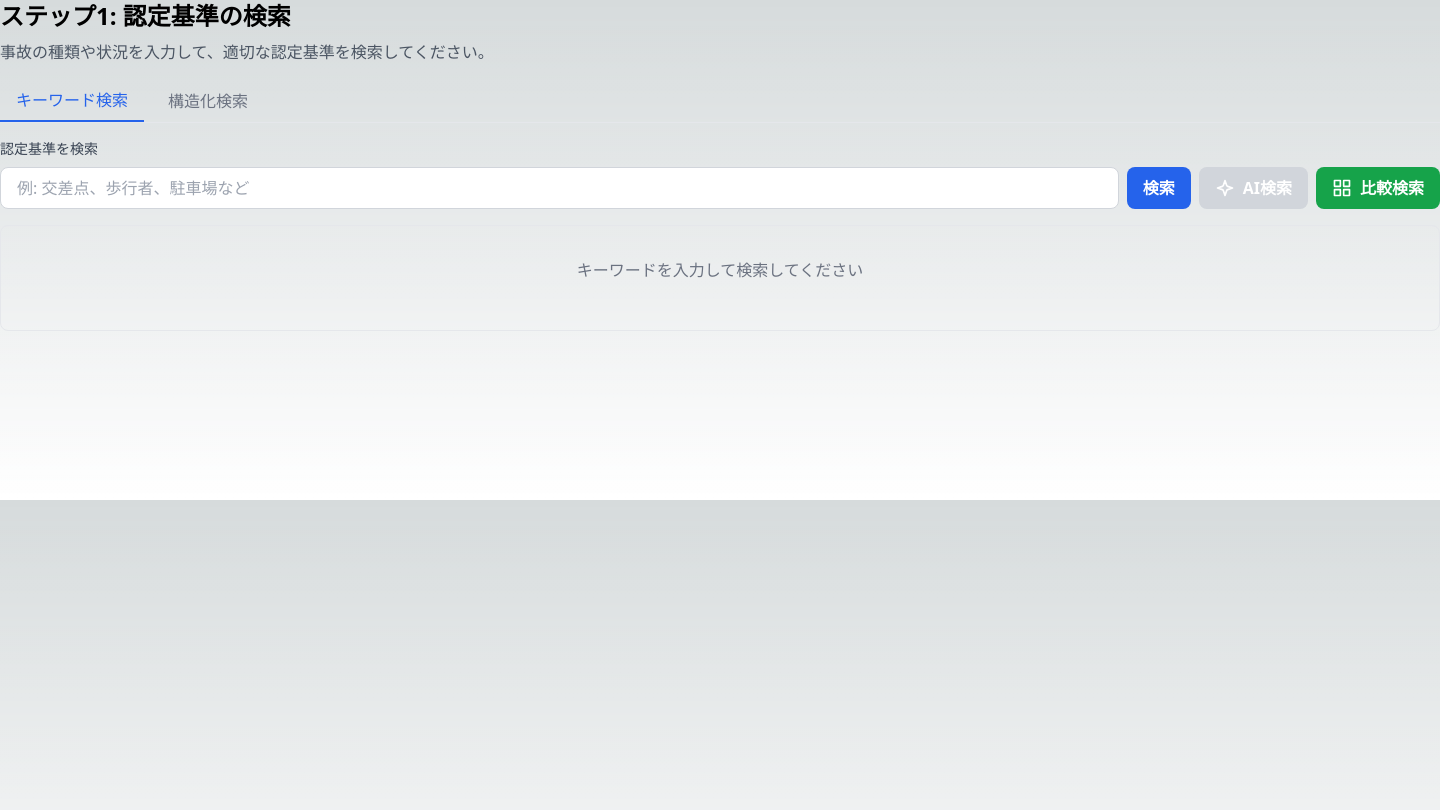
Test: Step1Search › shows no results message when search returns empty
The width and height of the screenshot is (1440, 810).
In the field with placeholder "例: 交差点、歩行者、駐車場など": [559, 188] box [0, 167, 1119, 209], type "存在しないキーワード"
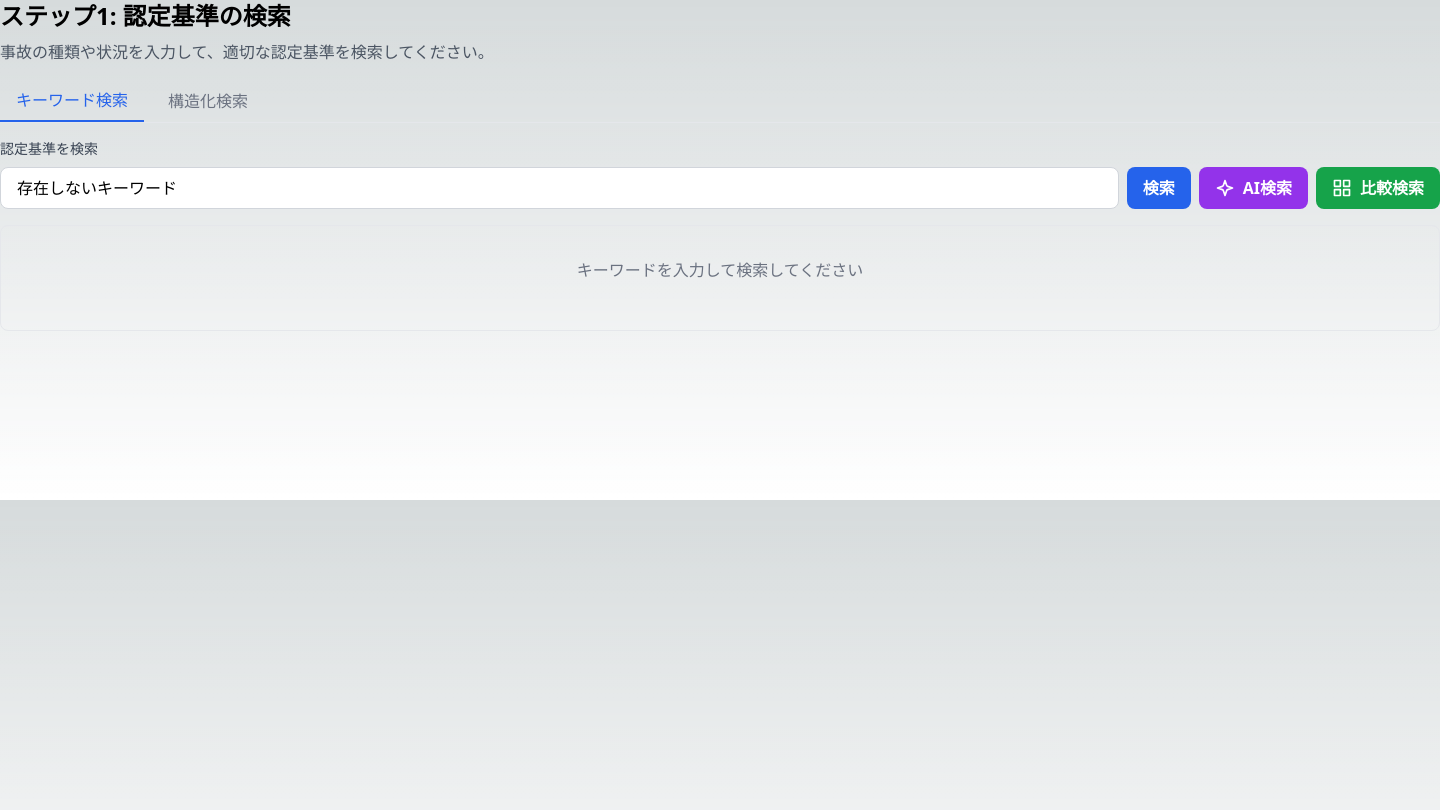
Click the button "検索": [1159, 188] box [1127, 167, 1191, 209]
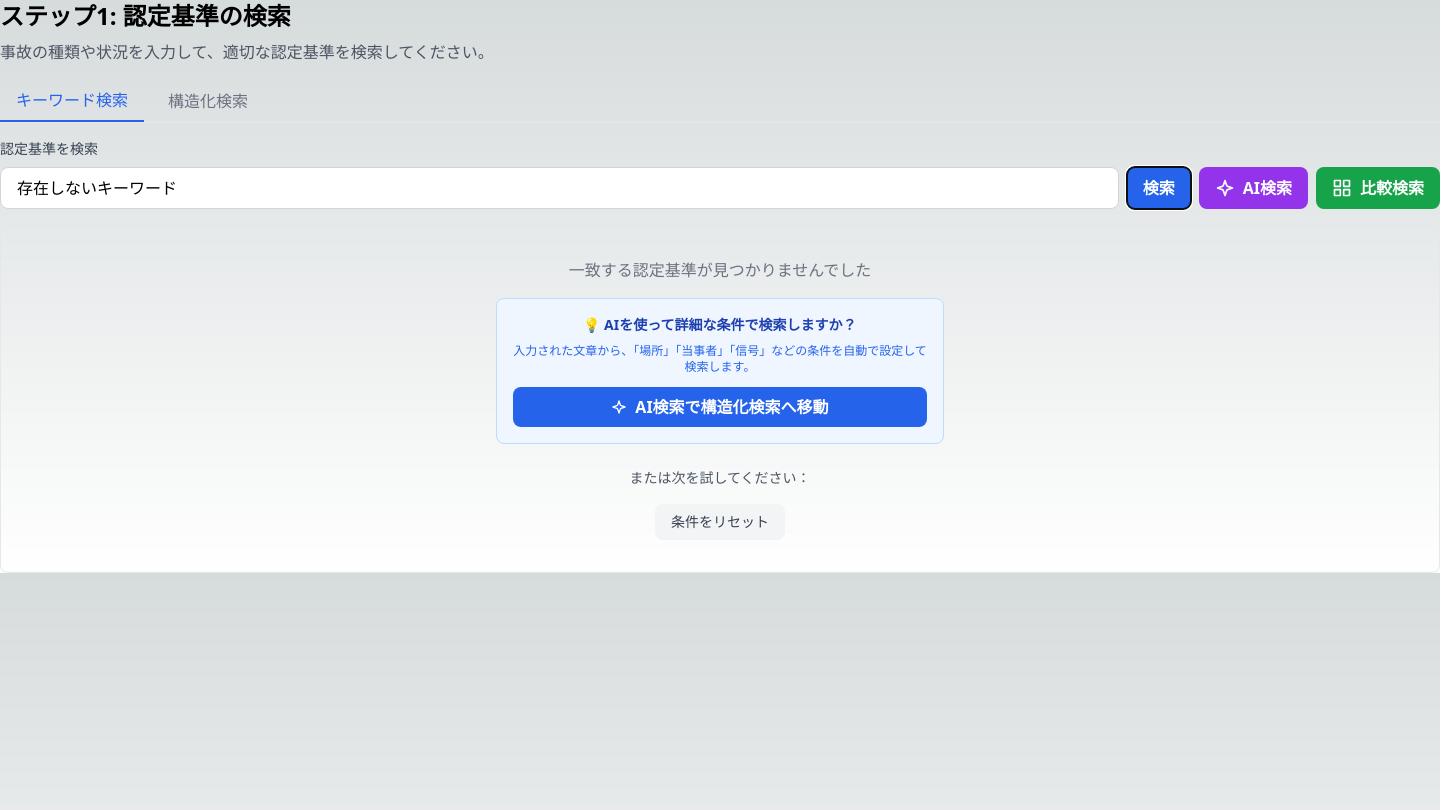
Check: the text "一致する認定基準が見つかりませんでした" is shown, box [569, 259, 871, 281]
Check: the button "条件をリセット" is shown, box [655, 504, 785, 540]
